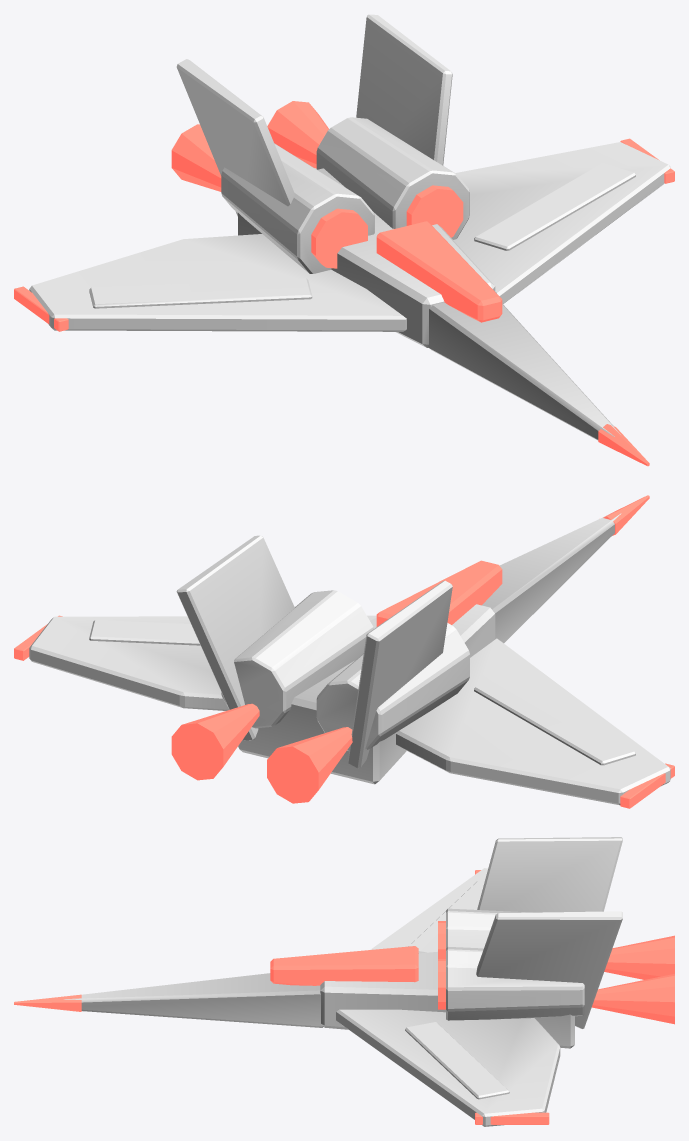
Rendered from e5_crimson_reaper.glb.
3 renders of one model, top to bottom at view 1: azimuth 30°, elevation 25°; view 2: azimuth 150°, elevation 25°; view 3: azimuth 270°, elevation 25°, orthographic. The views are drawn at different scales.
Parts seen in each view (by area): view 1: ReaperWing_L, ReaperWing_R, NoseLance, TailBlade_R, IntakePod_R, IntakePod_L, TailBlade_L, RedCanopy, MainHull, CrimsonStripe_L, CrimsonStripe_R, Core_Pulse_Jet_R (+5 smaller); view 2: ReaperWing_L, ReaperWing_R, IntakePod_R, TailBlade_R, TailBlade_L, IntakePod_L, NoseLance, MainHull, CrimsonStripe_L, Core_Pulse_Jet_R, Core_Pulse_Jet_L, RedCanopy (+3 smaller); view 3: ReaperWing_R, TailBlade_L, TailBlade_R, NoseLance, IntakePod_R, MainHull, RedCanopy, CrimsonStripe_R, Core_Pulse_Jet_R, Core_Pulse_Jet_L, IntakePod_L, ReaperWing_L (+3 smaller).
Boxes of the visible parts, x1=… form: ReaperWing_L: x1=29, y1=234, x2=406, y2=331; ReaperWing_R: x1=453, y1=142, x2=670, y2=303; NoseLance: x1=428, y1=302, x2=620, y2=440; TailBlade_R: x1=356, y1=14, x2=452, y2=165; IntakePod_R: x1=316, y1=117, x2=469, y2=239; IntakePod_L: x1=221, y1=143, x2=374, y2=273; TailBlade_L: x1=176, y1=59, x2=294, y2=216; RedCanopy: x1=376, y1=221, x2=502, y2=322; MainHull: x1=238, y1=168, x2=495, y2=347; CrimsonStripe_L: x1=89, y1=278, x2=312, y2=308; CrimsonStripe_R: x1=474, y1=163, x2=635, y2=250; Core_Pulse_Jet_R: x1=267, y1=101, x2=328, y2=168; ReaperWing_L: x1=396, y1=638, x2=670, y2=805; ReaperWing_R: x1=29, y1=615, x2=376, y2=710; IntakePod_R: x1=221, y1=590, x2=373, y2=728; TailBlade_R: x1=176, y1=535, x2=294, y2=740; TailBlade_L: x1=348, y1=580, x2=452, y2=768; IntakePod_L: x1=316, y1=623, x2=469, y2=750; NoseLance: x1=482, y1=513, x2=621, y2=643; MainHull: x1=238, y1=604, x2=495, y2=784; CrimsonStripe_L: x1=474, y1=677, x2=635, y2=765; Core_Pulse_Jet_R: x1=171, y1=703, x2=259, y2=780; Core_Pulse_Jet_L: x1=267, y1=727, x2=352, y2=803; RedCanopy: x1=376, y1=560, x2=502, y2=626; ReaperWing_R: x1=336, y1=1009, x2=560, y2=1126; TailBlade_L: x1=477, y1=837, x2=622, y2=912; TailBlade_R: x1=476, y1=911, x2=622, y2=1028; NoseLance: x1=64, y1=973, x2=323, y2=1027; IntakePod_R: x1=446, y1=946, x2=584, y2=1020; MainHull: x1=320, y1=951, x2=574, y2=1048; RedCanopy: x1=270, y1=946, x2=418, y2=985; CrimsonStripe_R: x1=405, y1=1022, x2=509, y2=1099; Core_Pulse_Jet_R: x1=592, y1=974, x2=674, y2=1024; Core_Pulse_Jet_L: x1=604, y1=935, x2=674, y2=979; IntakePod_L: x1=446, y1=908, x2=532, y2=948; ReaperWing_L: x1=370, y1=868, x2=488, y2=949.
Size of the model in its own units: 2.39 by 0.6642 by 2.7.
